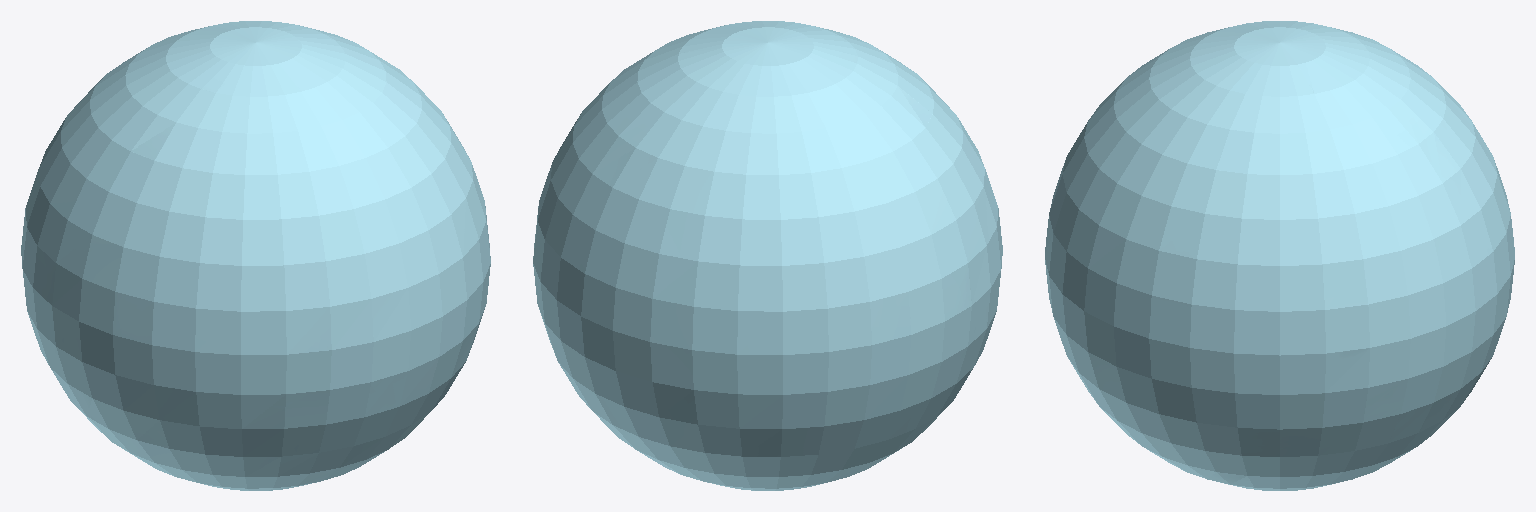
3 renders of one model, left to right at view 1: azimuth 30°, elevation 25°; view 2: azimuth 150°, elevation 25°; view 3: azimuth 270°, elevation 25°, orthographic.
Visible parts, largest first — view 1: Sphere; view 2: Sphere; view 3: Sphere.
Boxes of the visible parts, x1,y1,x2,y2 form: Sphere: [21, 21, 490, 490]; Sphere: [533, 21, 1002, 490]; Sphere: [1045, 21, 1514, 490].
Bounding box in the file's own units: 42.05 × 42.05 × 42.05.
Materials: 1 (1 with a texture image).